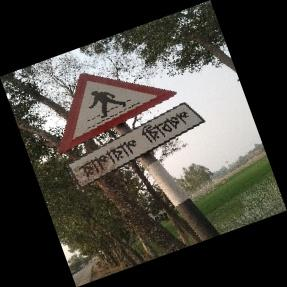Pedestrian-crossing: (57, 73, 205, 191)
